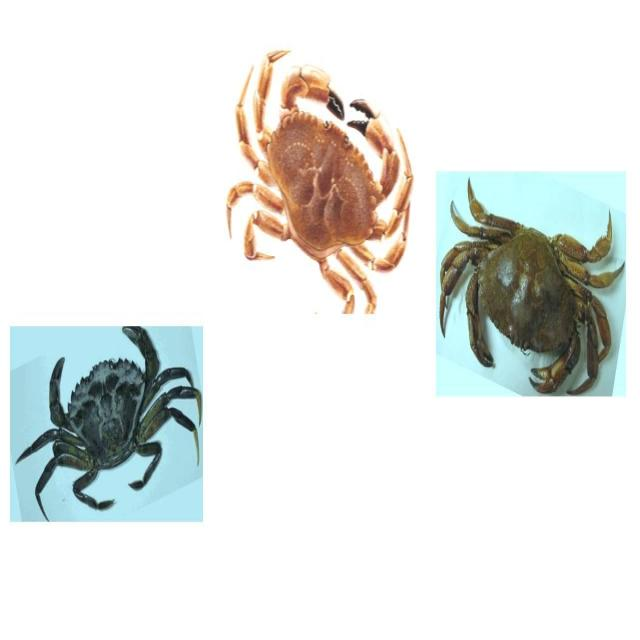egc: (16, 325, 202, 522)
